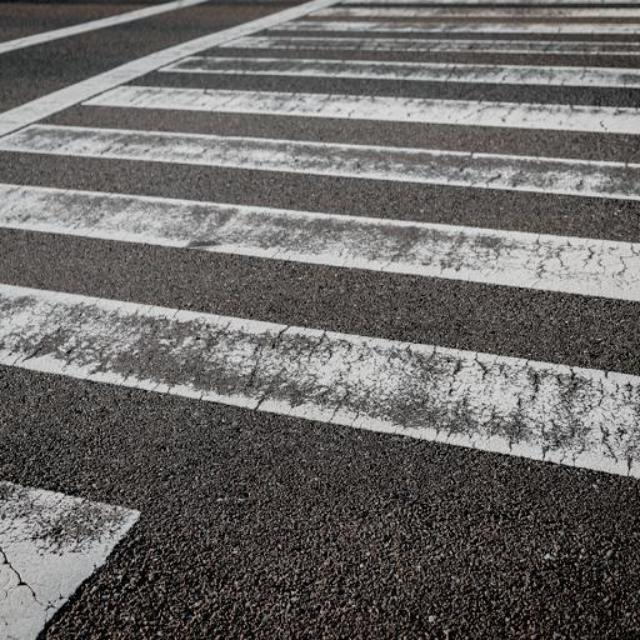sidewalk: (11, 3, 638, 476)
